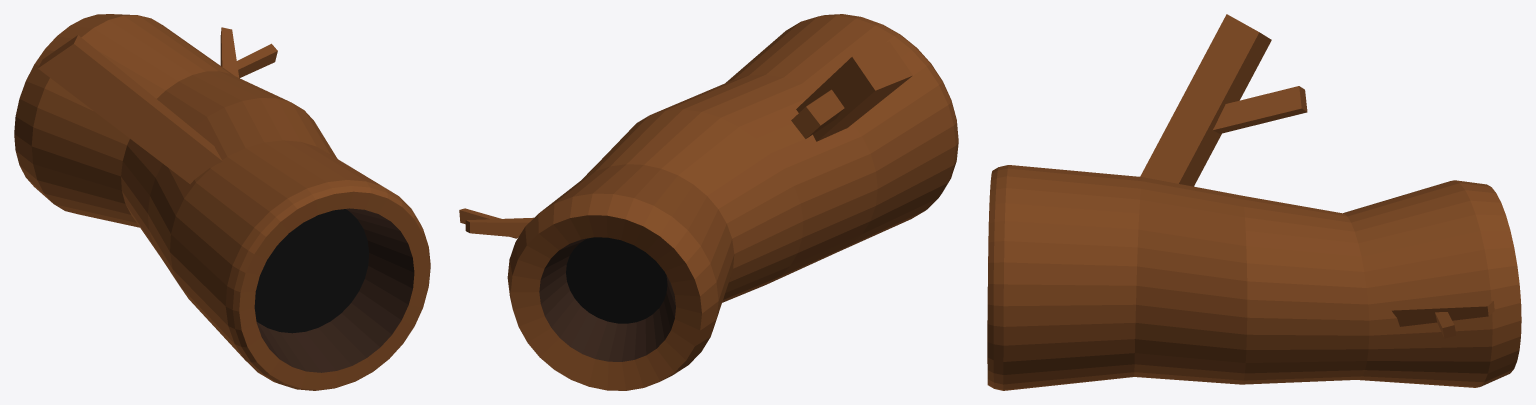
The model's file is Log.fbx.
3 renders of one model, left to right at view 1: azimuth 30°, elevation 25°; view 2: azimuth 150°, elevation 25°; view 3: azimuth 270°, elevation 25°, orthographic.
Visible parts, largest first — view 1: Cylinder; view 2: Cylinder; view 3: Cylinder.
Boxes of the visible parts, box(x1,y1,x2,y2) form: Cylinder: box(14, 14, 430, 390); Cylinder: box(459, 14, 958, 390); Cylinder: box(987, 14, 1521, 390).
Bounding box in the file's own units: 363 × 301 × 493.
